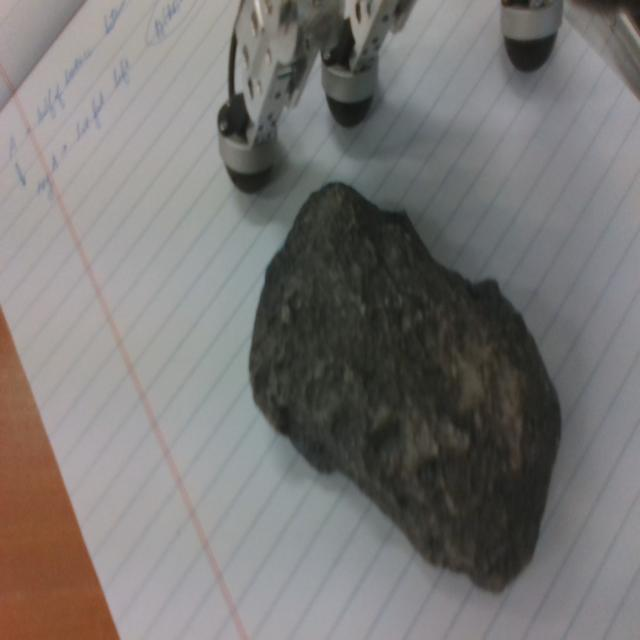stone: (249, 182, 561, 597)
